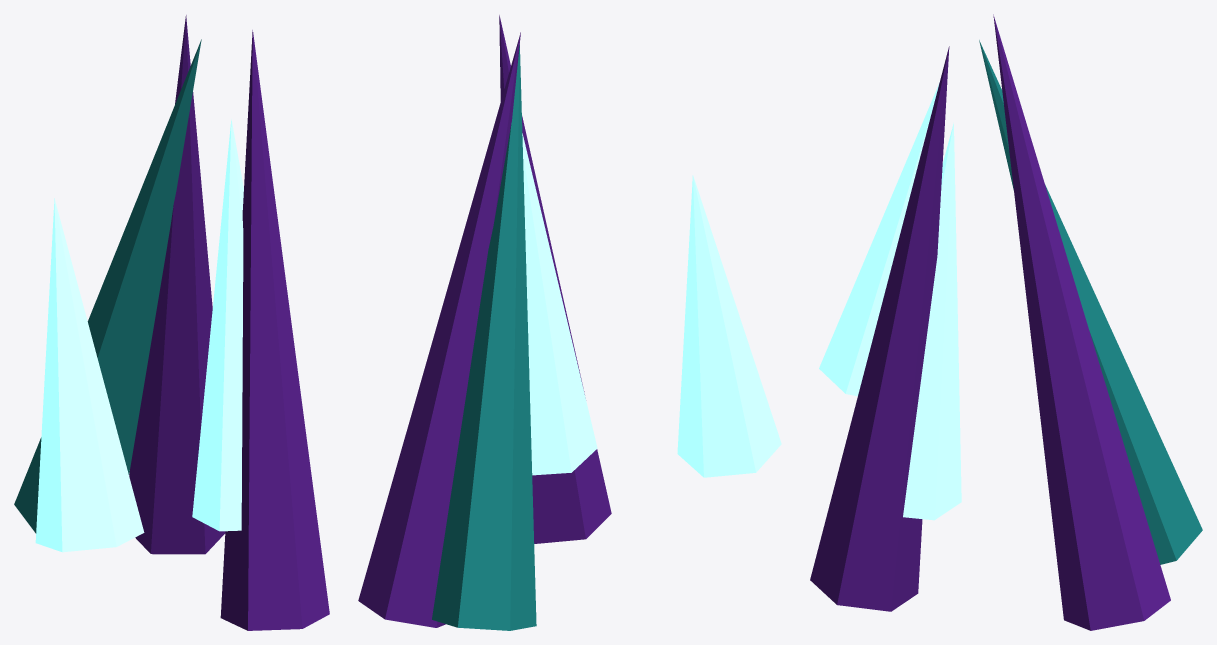
The model's file is Prop_OR_Crystal_06.glb.
3 views of the same model, side by side, from view 1: azimuth 30°, elevation 25°; view 2: azimuth 150°, elevation 25°; view 3: azimuth 270°, elevation 25° (orthographic). The views are drawn at different scales.
Parts seen in each view (by area): view 1: Prop_OR_Crystal_06; view 2: Prop_OR_Crystal_06; view 3: Prop_OR_Crystal_06.
Boxes of the visible parts, x1,y1,x2,y2 form: Prop_OR_Crystal_06: (14, 15, 329, 630); Prop_OR_Crystal_06: (358, 15, 781, 630); Prop_OR_Crystal_06: (810, 14, 1202, 630).
Size of the model in its own units: 0.773 by 1.46 by 0.899.
